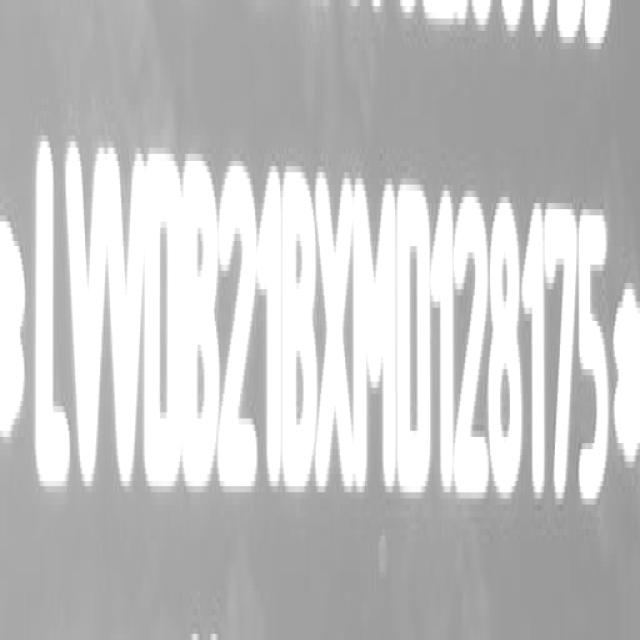1: (256, 156, 284, 504), (431, 181, 455, 510), (523, 196, 545, 510)
2: (218, 153, 259, 504), (457, 189, 491, 512)
5: (578, 205, 612, 502)
7: (545, 202, 576, 511)
8: (282, 163, 318, 501), (490, 193, 524, 510)
B: (184, 148, 222, 504)
D: (147, 145, 185, 501), (400, 176, 434, 506)
L: (35, 135, 70, 496)
M: (357, 172, 400, 505)
V: (67, 132, 110, 497), (108, 142, 148, 498)
X: (314, 171, 356, 508)
